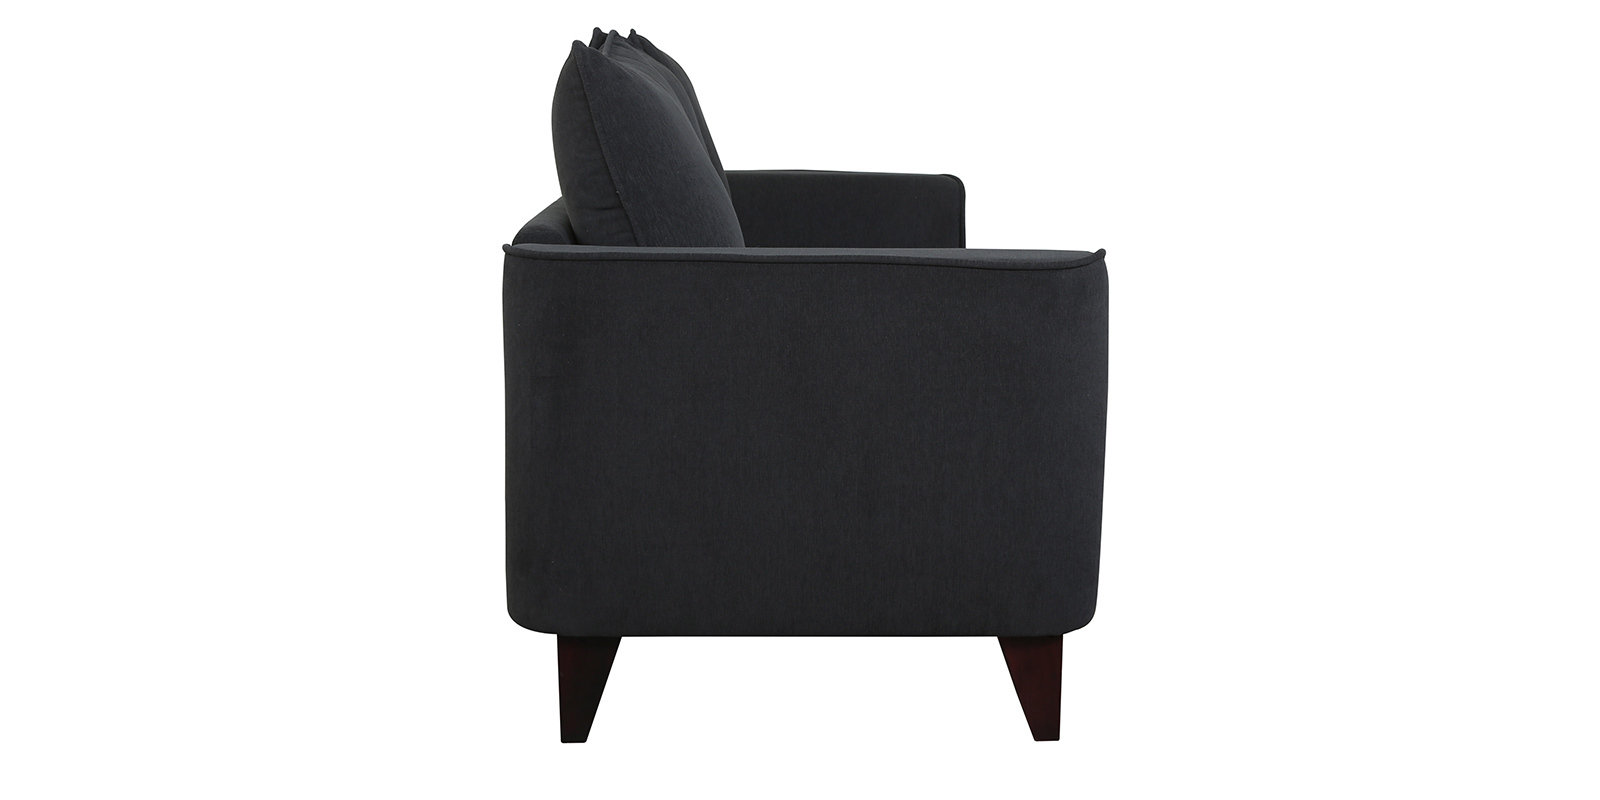Lara Three Seater Sofa in Charcoal Grey Colour by CasaCraft: (505, 26, 1107, 742)
